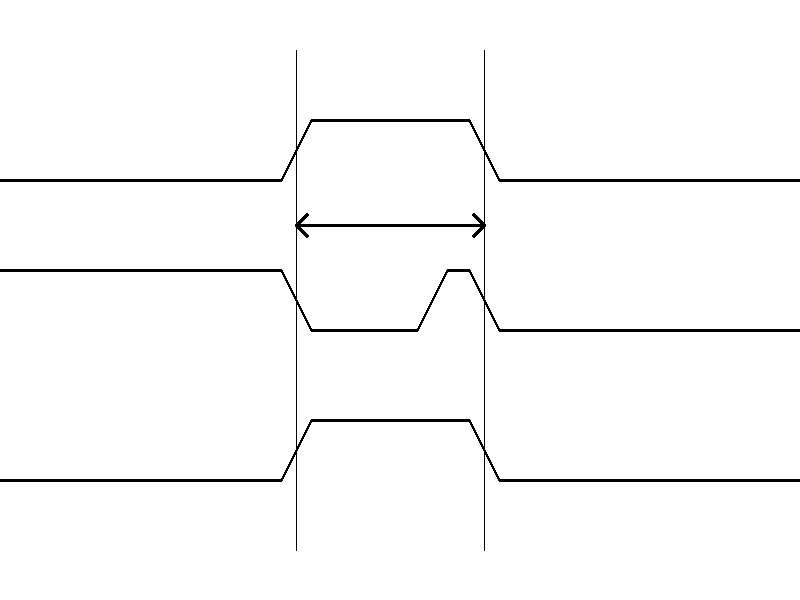double_arrow: (296, 210, 484, 240)
